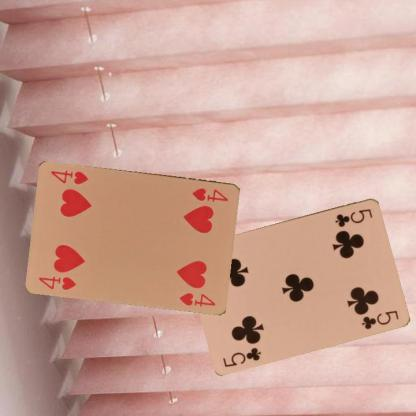4h: (36, 273, 78, 291), (190, 185, 229, 203)
5c: (220, 344, 263, 368), (332, 206, 374, 228)
